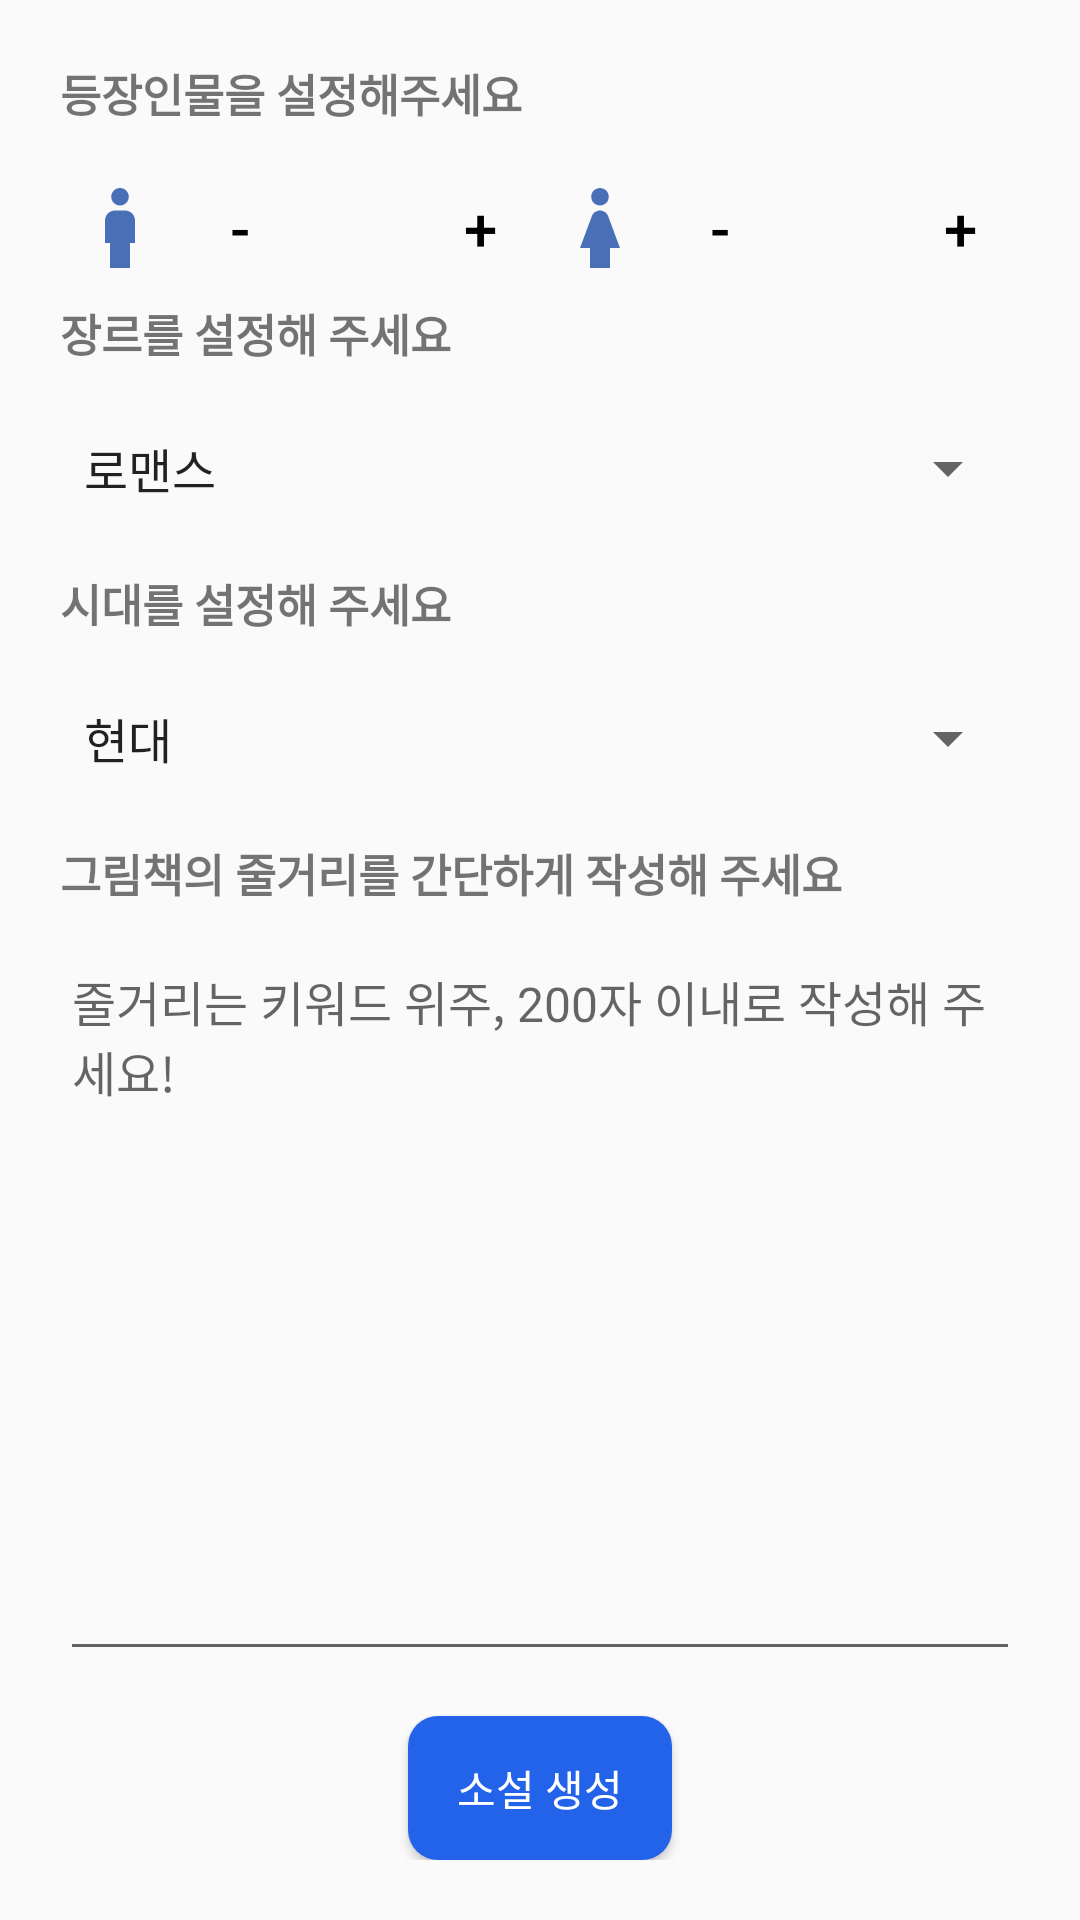

Locate icon controls on the screen. Image size 1080×1920, boxes as box=[x1, y1, x2, y2].
boy: box=[105, 188, 135, 268]
girl: box=[580, 188, 620, 268]
